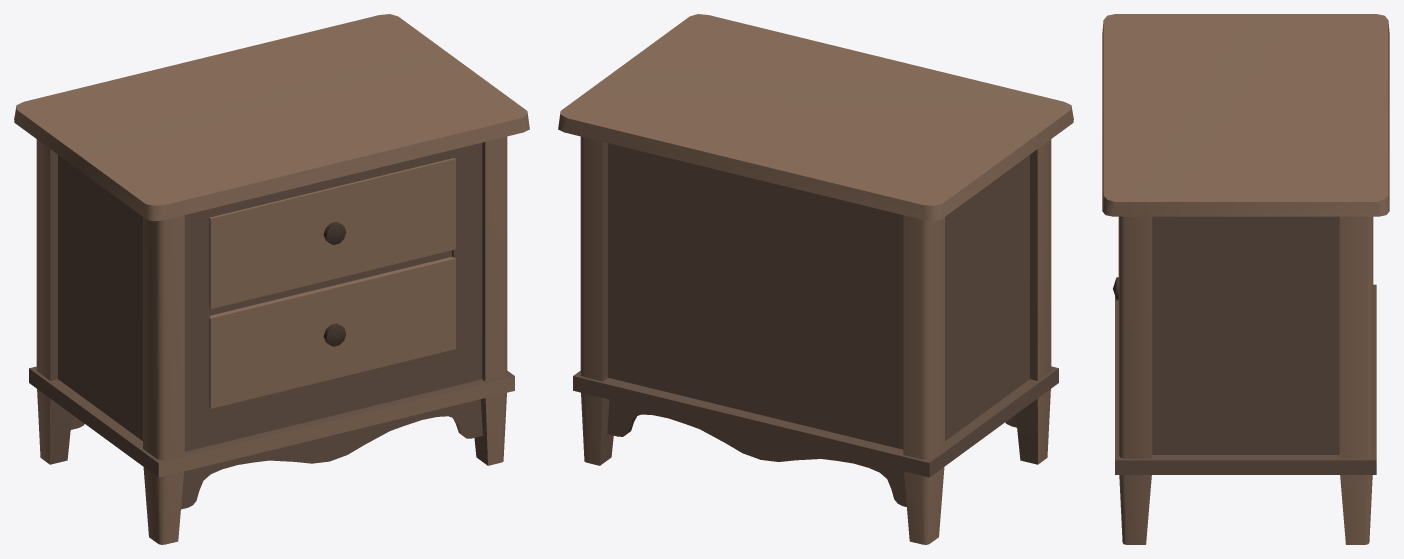
Rendered from sidetable_W.fbx.
The picture shows the model from 3 angles, left to right: view 1: azimuth 30°, elevation 25°; view 2: azimuth 150°, elevation 25°; view 3: azimuth 270°, elevation 25°; orthographic projection.
Visible parts, largest first — view 1: FurnitureSet_03_v_01; view 2: FurnitureSet_03_v_01; view 3: FurnitureSet_03_v_01.
Boxes of the visible parts, x1=… form: FurnitureSet_03_v_01: x1=14, y1=14, x2=529, y2=544; FurnitureSet_03_v_01: x1=558, y1=14, x2=1073, y2=544; FurnitureSet_03_v_01: x1=1102, y1=14, x2=1389, y2=544.
Size of the model in its own units: 81.26 by 70.79 by 52.28.
